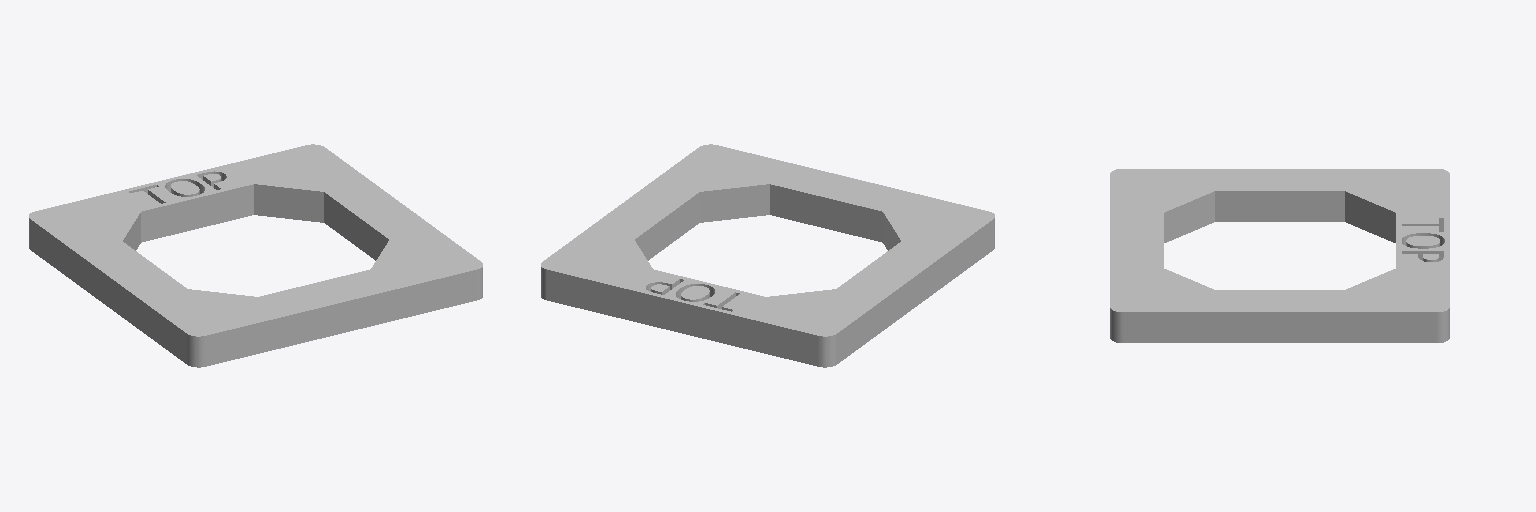
File: V5_Cube 1x1 V5 Top Press.obj
The picture shows the model from 3 angles: view 1: azimuth 30°, elevation 25°; view 2: azimuth 150°, elevation 25°; view 3: azimuth 270°, elevation 25°; orthographic projection.
Parts seen in each view (by area): view 1: Solid1:11; view 2: Solid1:11; view 3: Solid1:11.
Part boxes in pixels (x1,y1,x2,y2): Solid1:11: (29, 144, 482, 367); Solid1:11: (541, 144, 994, 367); Solid1:11: (1110, 169, 1449, 342).
Size of the model in its own units: 49.8 by 5 by 49.8.